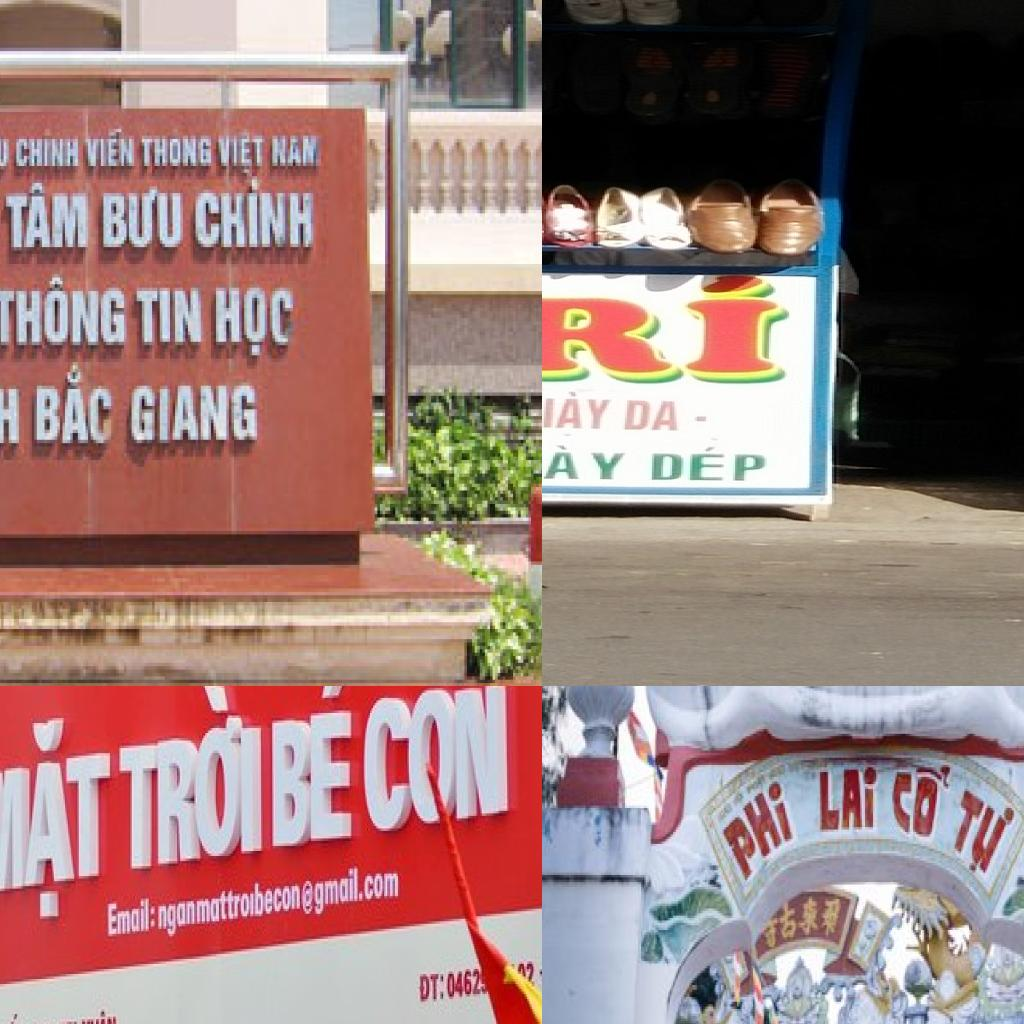text: (542, 273, 791, 381), (116, 686, 259, 873), (0, 707, 110, 931), (363, 686, 505, 836), (155, 861, 400, 941), (271, 686, 351, 848), (191, 176, 321, 257), (0, 270, 126, 348), (127, 382, 262, 446), (721, 772, 795, 887), (947, 777, 1020, 887), (32, 362, 116, 450), (211, 278, 298, 362), (1, 183, 93, 257), (98, 183, 186, 254), (889, 760, 958, 842), (134, 284, 206, 348), (647, 447, 769, 484), (819, 768, 881, 834), (542, 443, 638, 482), (542, 391, 625, 430), (137, 132, 216, 170), (14, 129, 83, 169), (216, 129, 267, 179), (83, 126, 137, 170), (107, 899, 157, 944), (270, 132, 324, 173), (620, 399, 684, 433), (0, 382, 24, 449), (446, 969, 482, 1002), (418, 974, 446, 1009), (82, 1009, 118, 1024), (0, 135, 13, 176)
